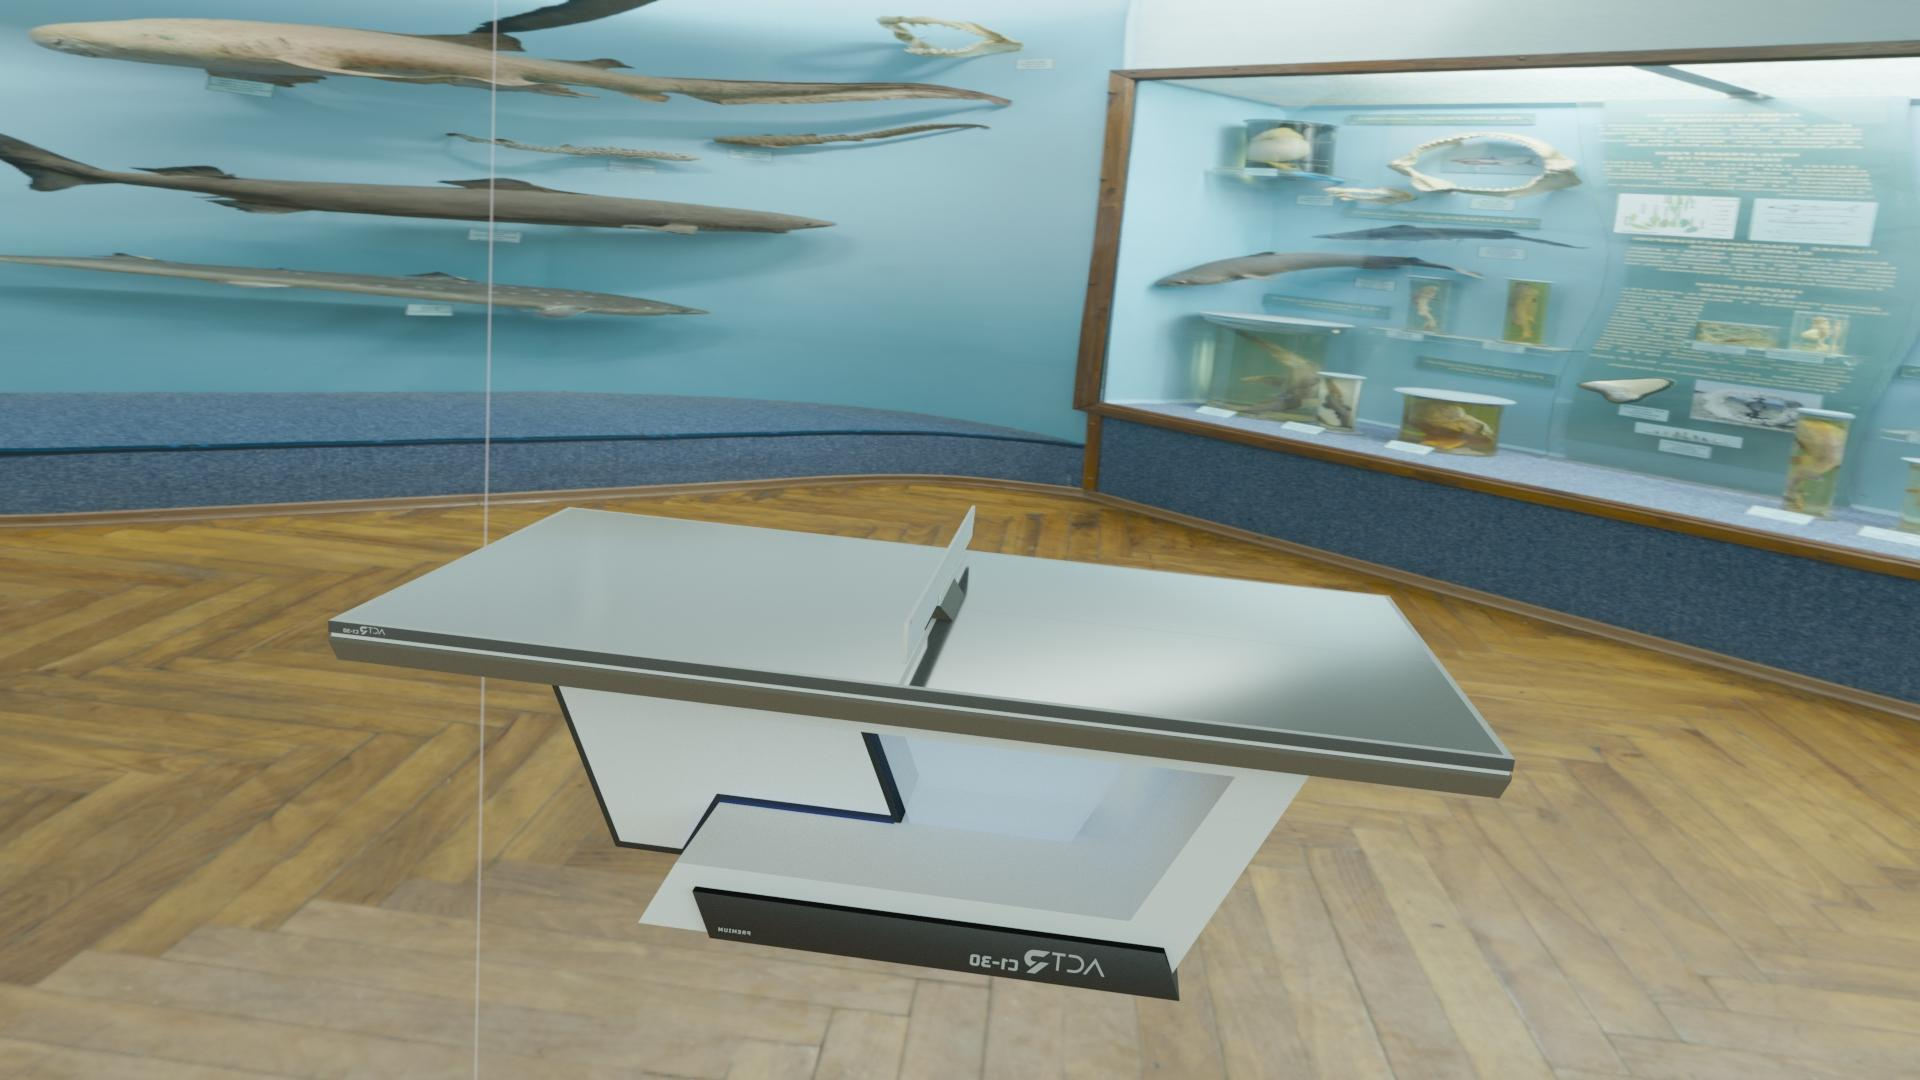table: (340, 509, 1503, 756)
